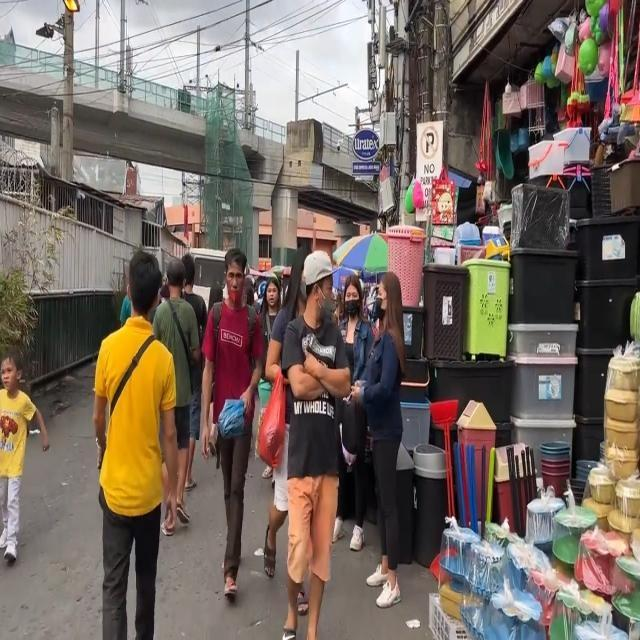hairnet: (307, 273, 335, 322), (226, 263, 242, 303)
